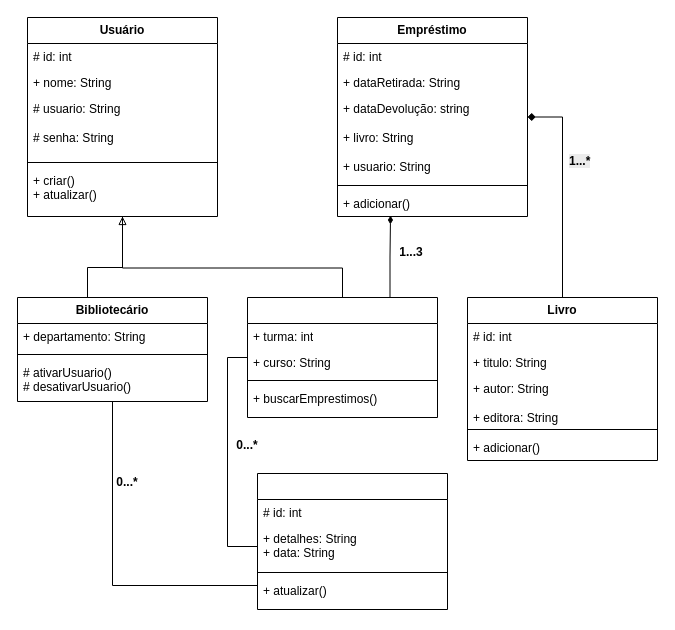
Some shapes in this 675 by 630 pixel diagram are drawn without their labels. Each missing label, with the box of its shape:
Aluno: (246, 296, 438, 418)
Transação: (256, 472, 448, 610)
